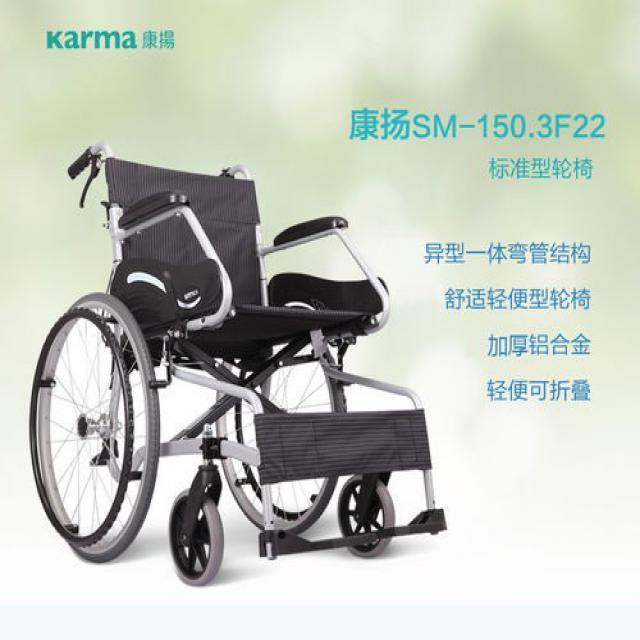wheelchairs: (33, 144, 449, 586)
